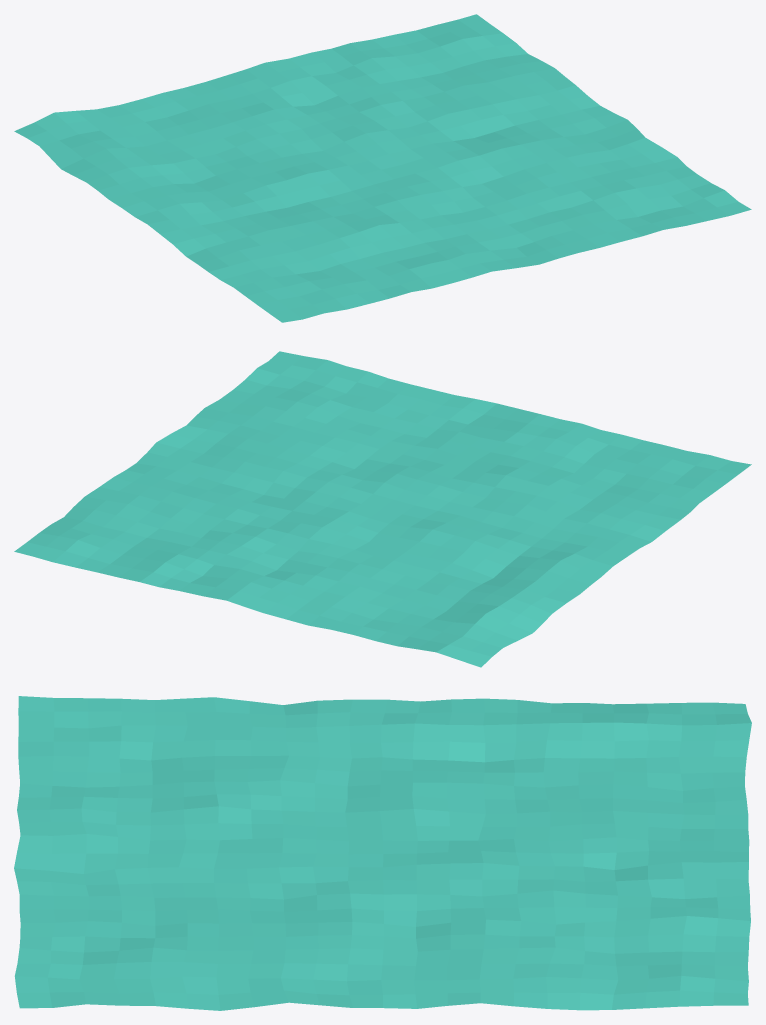
File: stationarySea.fbx
3 views of the same model, one above another, from view 1: azimuth 30°, elevation 25°; view 2: azimuth 150°, elevation 25°; view 3: azimuth 270°, elevation 25° (orthographic). The views are drawn at different scales.
Parts seen in each view (by area): view 1: Plane; view 2: Plane; view 3: Plane.
Boxes of the visible parts, x1,y1,x2,y2 form: Plane: (14,14,751,322); Plane: (14,351,751,667); Plane: (14,696,751,1010).
Size of the model in its own units: 202 by 3.98 by 203.
